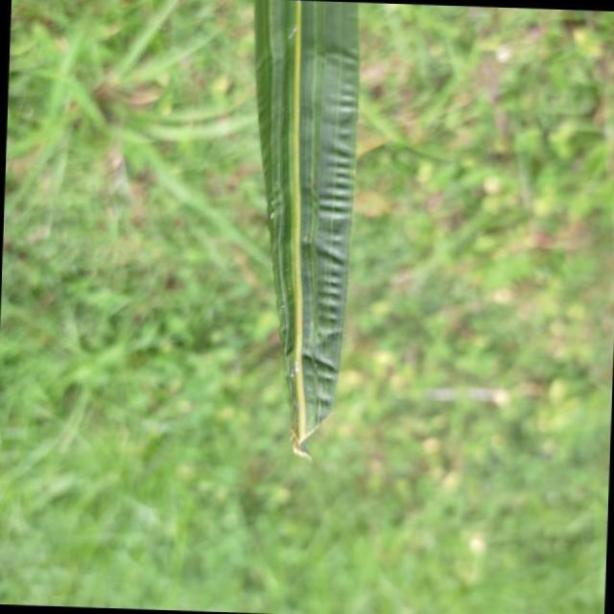Boron: (251, 2, 361, 460)
